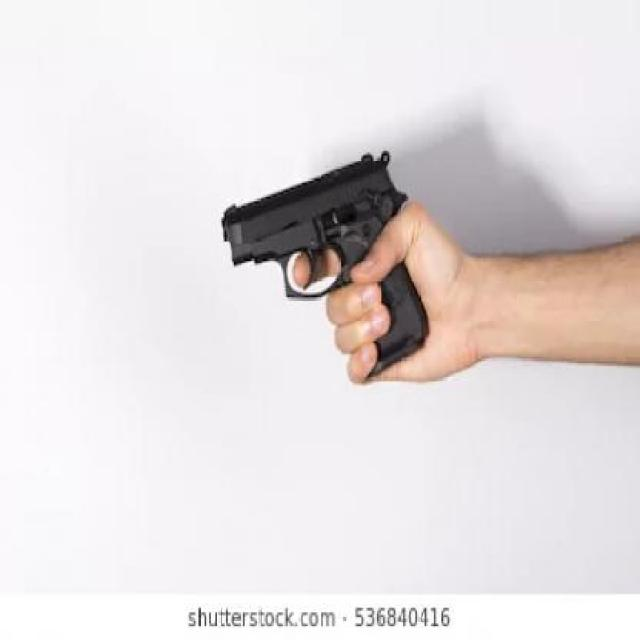guns: (211, 163, 437, 365)
